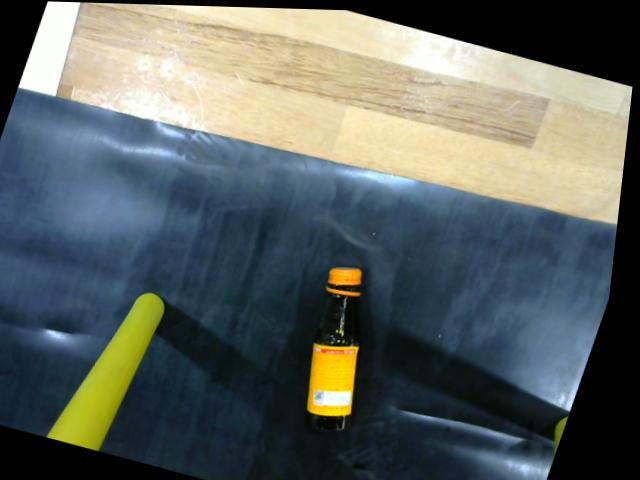glass: (308, 260, 370, 430)
